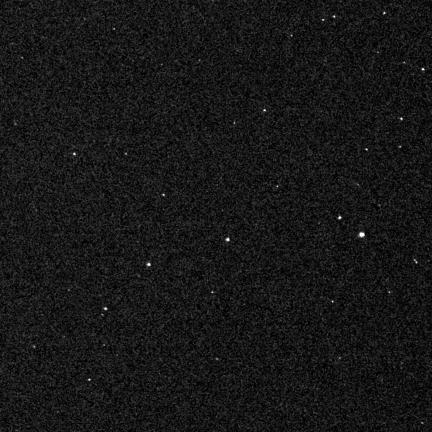blob: (359, 232, 364, 237), (147, 262, 151, 266), (383, 12, 387, 15), (103, 307, 107, 310), (225, 238, 229, 241), (400, 117, 403, 121), (264, 109, 267, 112), (333, 16, 336, 19), (73, 153, 76, 156), (422, 68, 425, 71), (338, 216, 341, 219), (88, 379, 91, 381)
